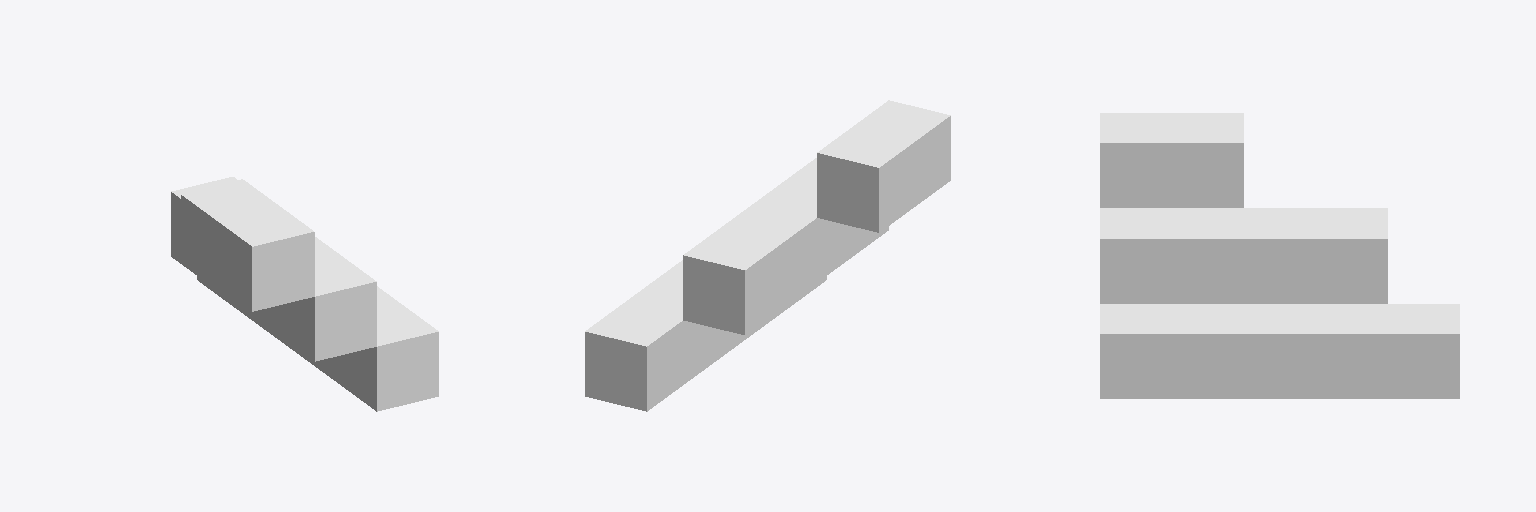
Rendered from YellowHouseParts-94.obj.
The picture shows the model from 3 angles: view 1: azimuth 30°, elevation 25°; view 2: azimuth 150°, elevation 25°; view 3: azimuth 270°, elevation 25°; orthographic projection.
Visible parts, largest first — view 1: object 1; view 2: object 1; view 3: object 1.
Boxes of the visible parts, x1=… form: object 1: x1=171, y1=177, x2=438, y2=411; object 1: x1=585, y1=100, x2=950, y2=411; object 1: x1=1100, y1=113, x2=1459, y2=398.
Bounding box in the file's own units: 0.3 × 0.3 × 0.5.